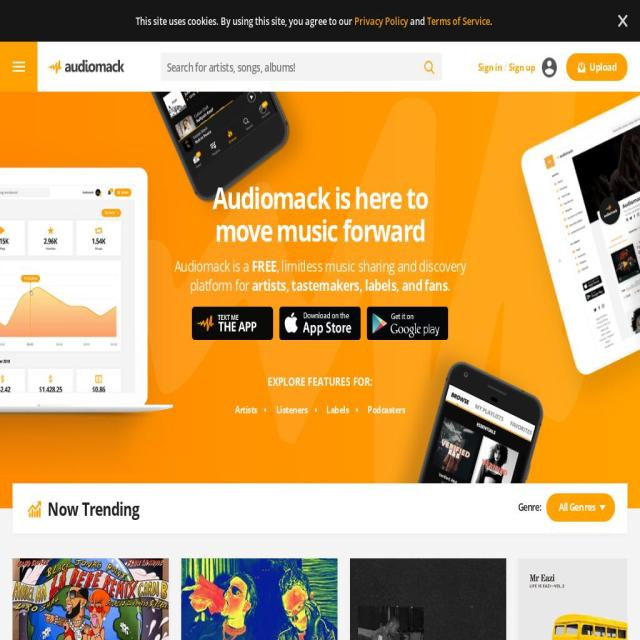button: (182, 558, 338, 640), (350, 558, 506, 640), (13, 558, 168, 640), (519, 558, 640, 640), (47, 42, 124, 92), (192, 306, 273, 340), (367, 306, 448, 340), (280, 306, 360, 340), (546, 492, 615, 522), (566, 53, 628, 81), (416, 52, 442, 83), (367, 402, 405, 416), (276, 402, 308, 416), (326, 402, 349, 416), (541, 49, 557, 69), (235, 402, 257, 416), (618, 14, 628, 28)
field: (160, 52, 442, 81)
heading: (0, 483, 640, 525), (212, 181, 428, 247), (190, 255, 466, 295), (214, 209, 425, 251), (252, 274, 448, 295), (47, 42, 124, 92), (48, 496, 140, 521), (174, 255, 252, 276), (251, 255, 277, 276), (28, 500, 42, 519), (448, 274, 450, 295)
image: (0, 8, 640, 592), (0, 142, 528, 475), (127, 92, 316, 508), (356, 336, 544, 640), (507, 50, 640, 467), (182, 558, 338, 640), (350, 558, 506, 640), (13, 558, 168, 640), (519, 558, 640, 640), (367, 306, 448, 340), (280, 306, 360, 340), (192, 307, 273, 339), (6, 42, 32, 92), (541, 58, 557, 78), (424, 59, 434, 76), (618, 14, 628, 28), (576, 62, 586, 72)
label: (518, 498, 541, 516)
link: (426, 14, 490, 28), (354, 14, 408, 28), (508, 60, 536, 74), (478, 60, 502, 74)
text: (154, 370, 486, 392), (135, 14, 353, 28), (558, 499, 596, 515), (590, 59, 616, 74), (409, 14, 425, 28), (502, 60, 509, 74), (490, 14, 492, 28)
